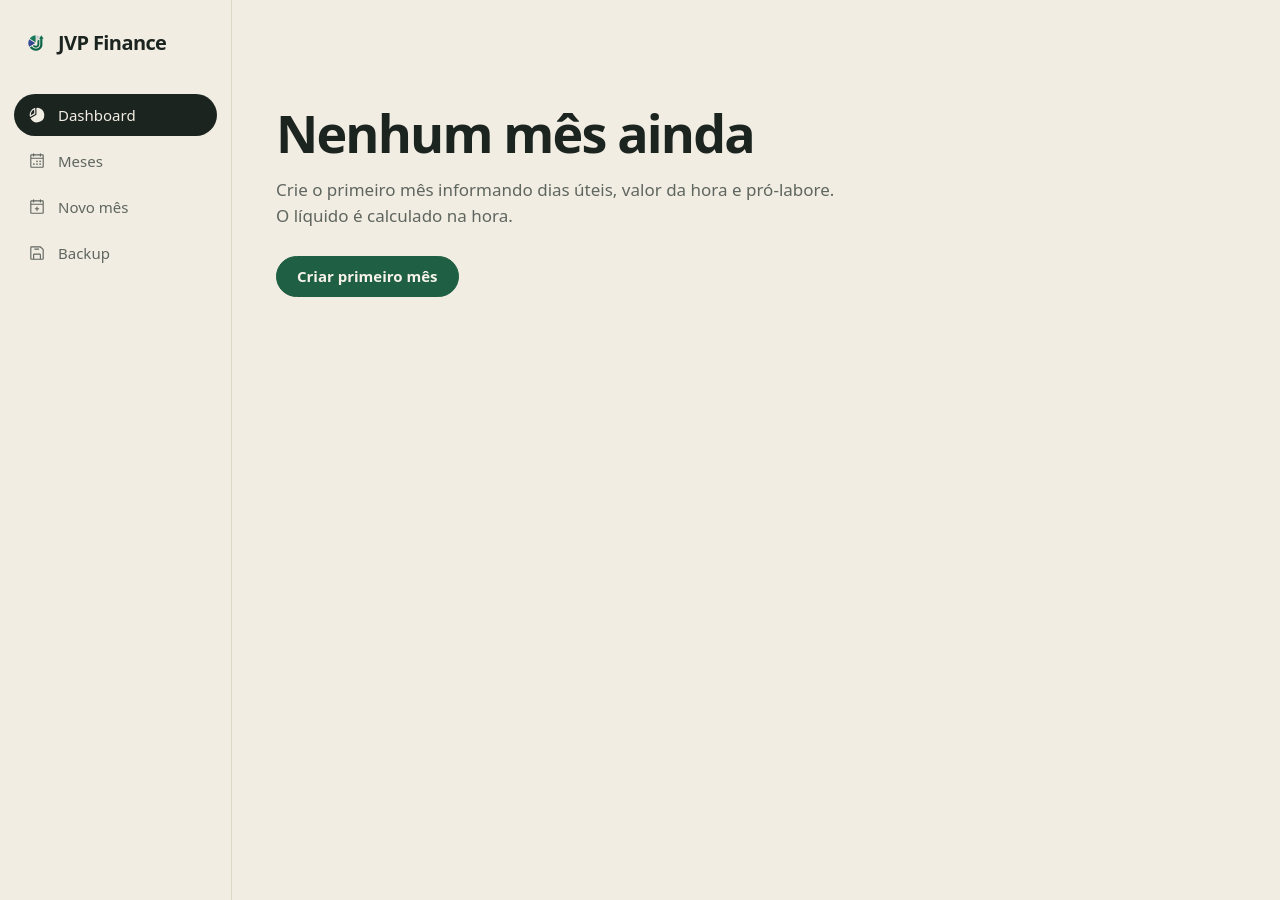
Test case: criar o primeiro mês mostra o líquido no dashboard e persiste
The width and height of the screenshot is (1280, 900).
Later steps or results of the test are not shown.
Click the button "Criar primeiro mês". click: click(367, 276)
box: [276, 256, 458, 297]
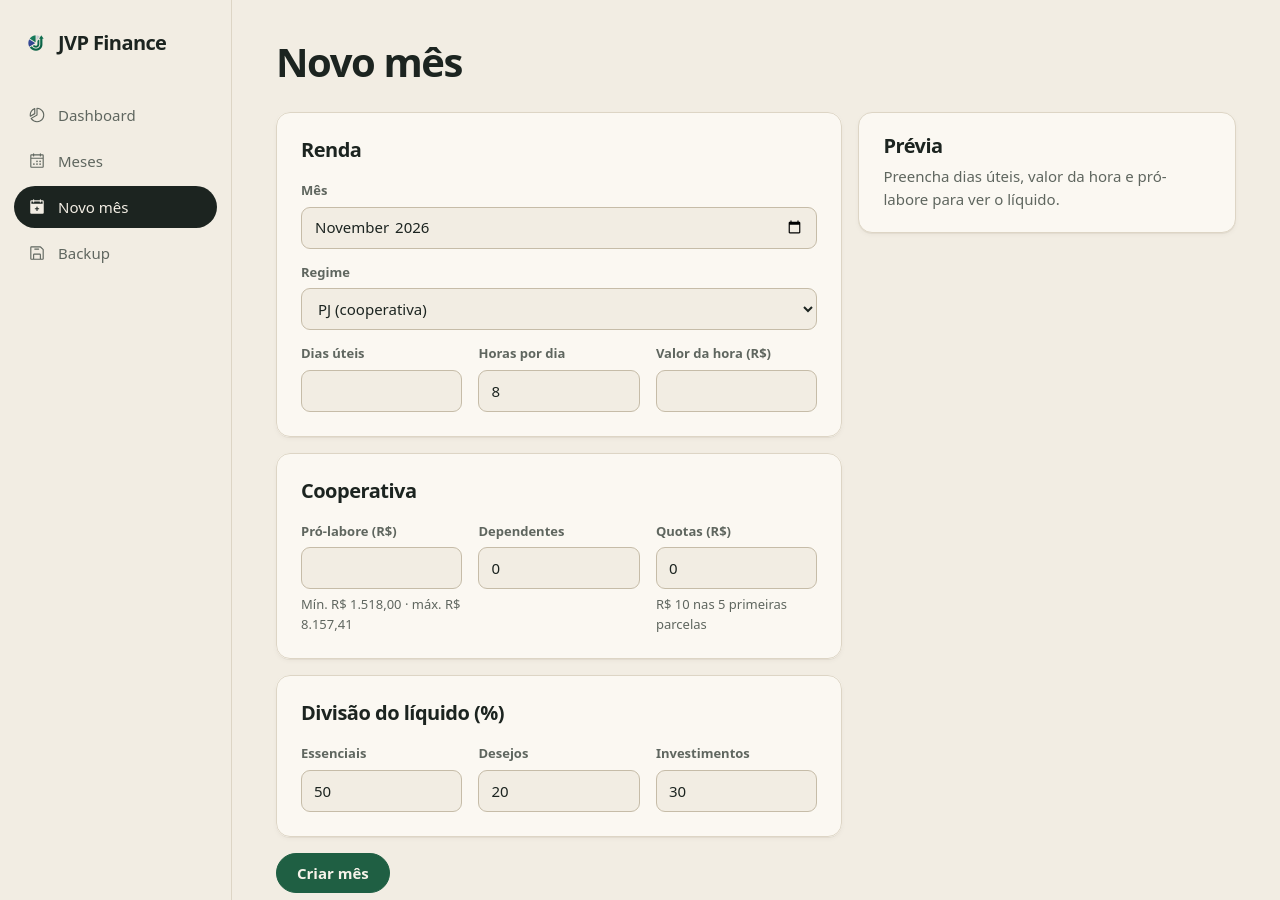
Replace the text in the field labelled "Mês" with "2026-12". click: (559, 228)
box: [301, 206, 817, 248]
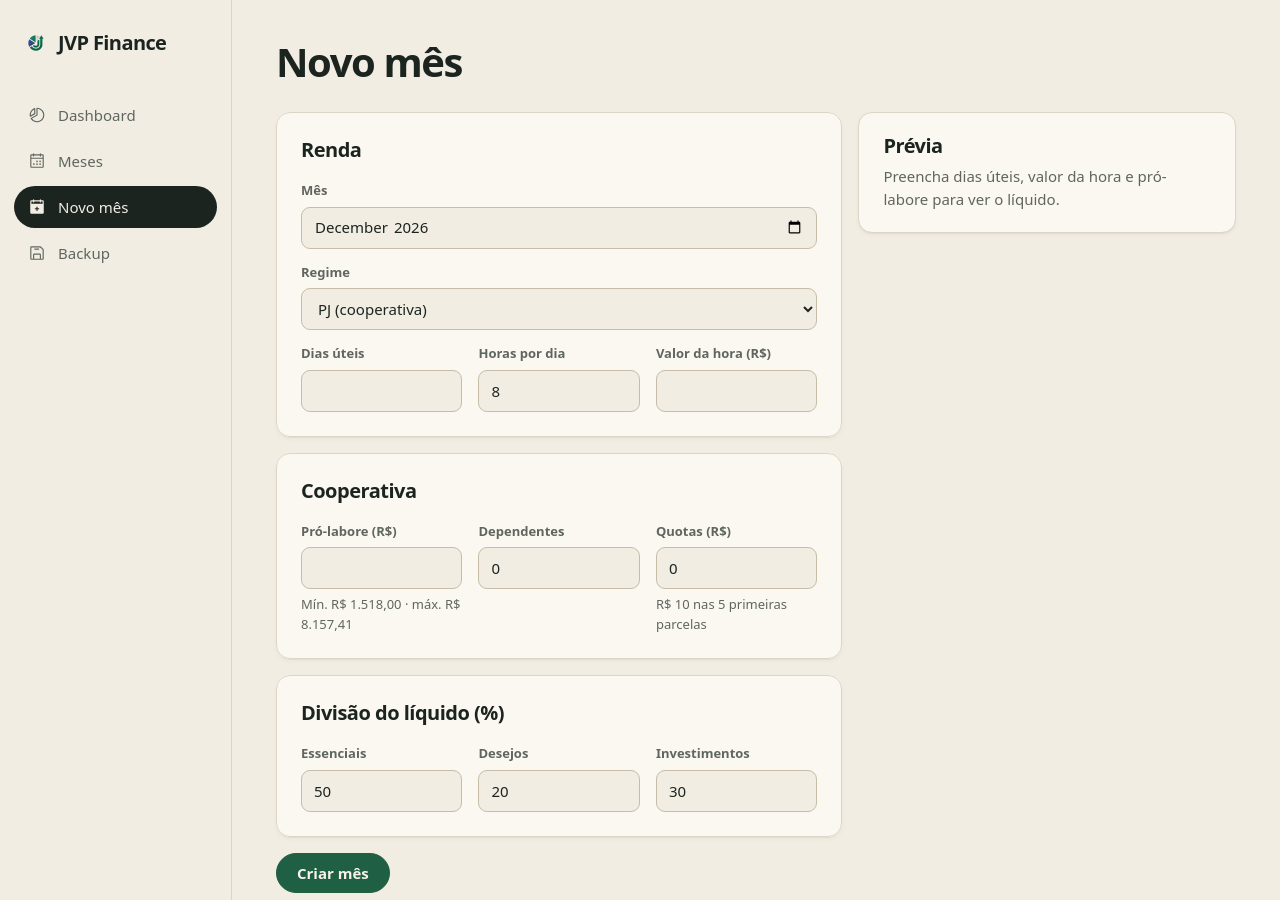
Type "20" into the number field labelled "Dias úteis". click: (382, 390)
box: [301, 370, 462, 412]
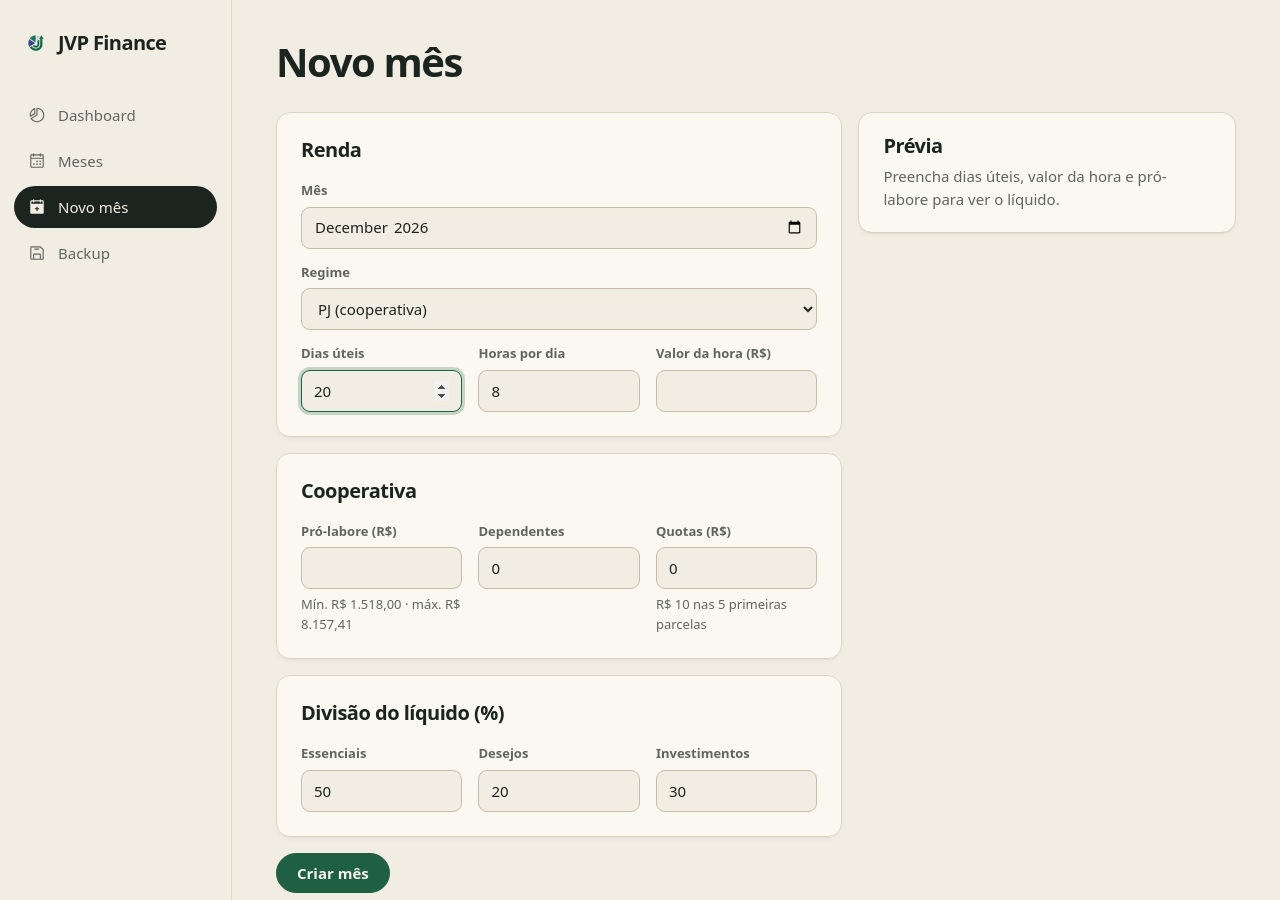
Type "40" into the number field labelled "Valor da hora (R$)". click: (737, 390)
box: [656, 370, 817, 412]
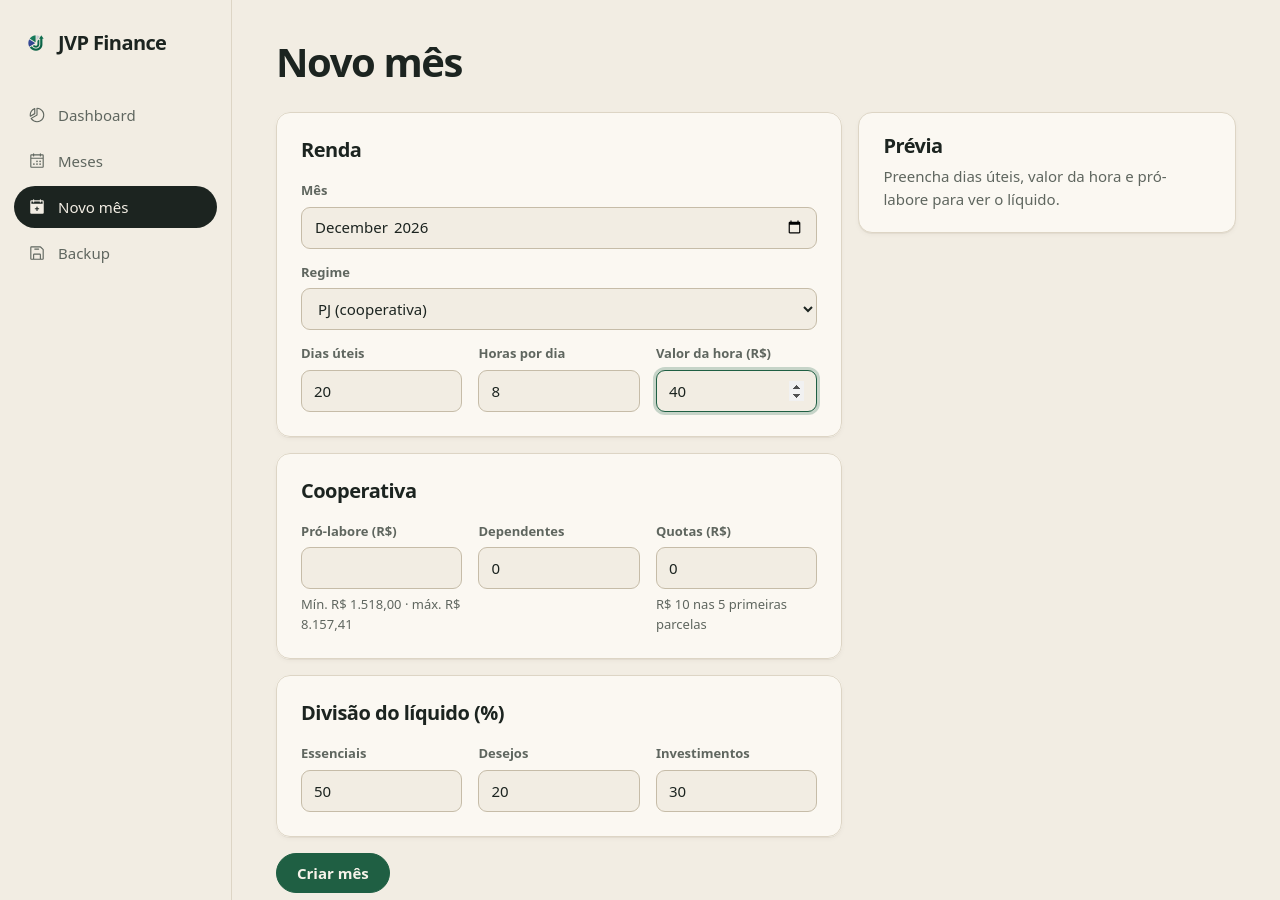
Type "1621" into the number field labelled "Pró-labore (R$)". click: (382, 568)
box: [301, 547, 462, 589]
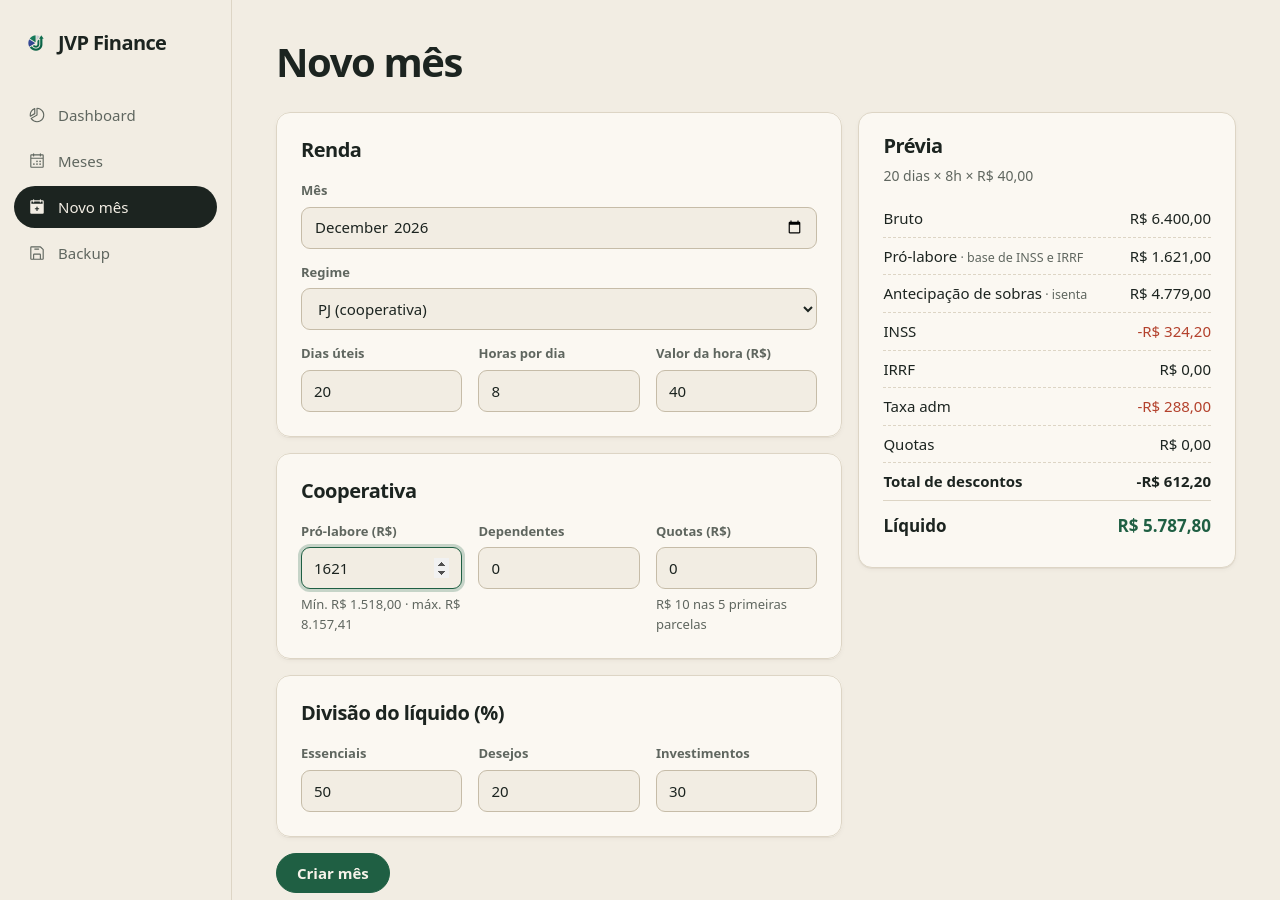
Click the button "Criar mês". click: click(333, 873)
box: [276, 852, 390, 893]
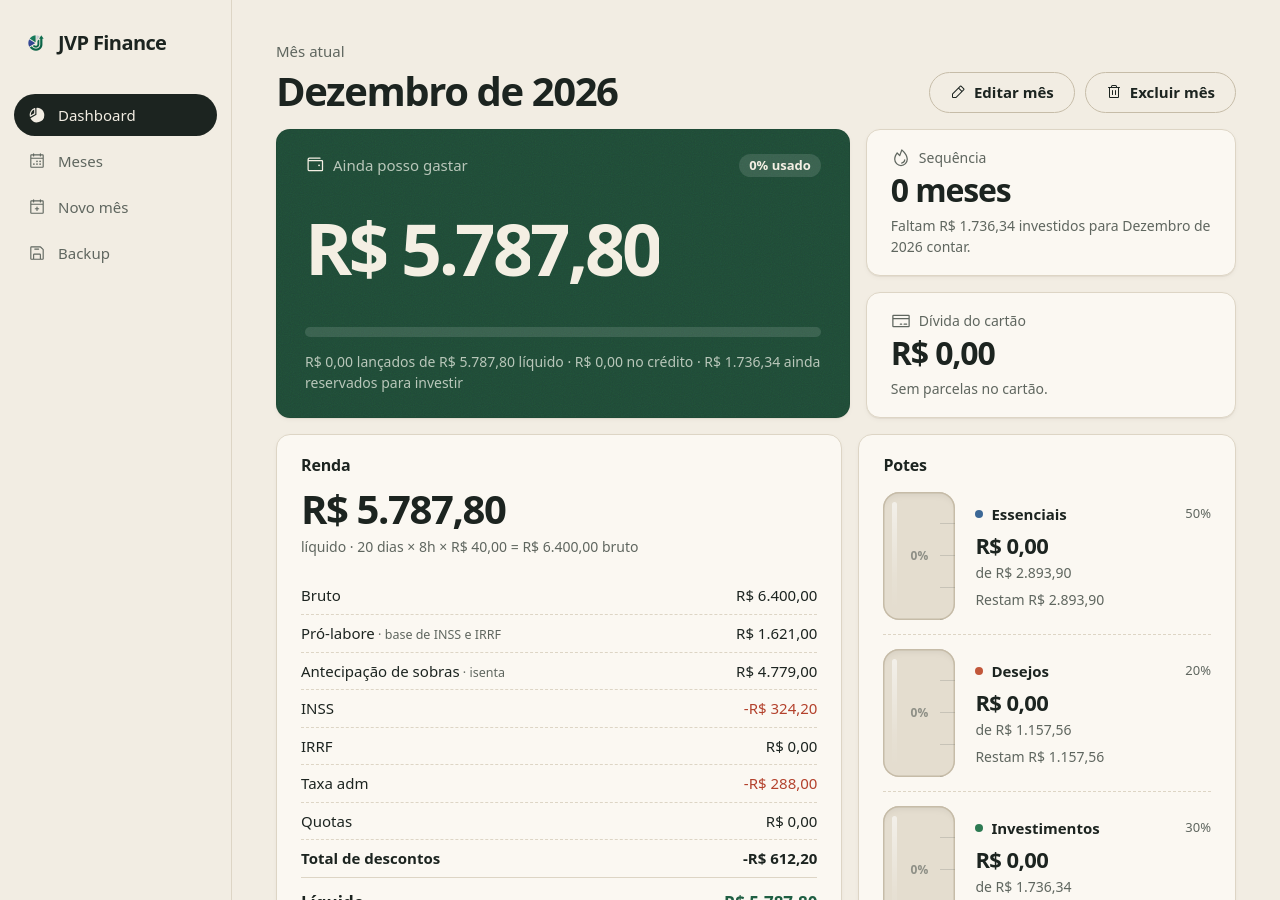
Expected: the heading "Dezembro de 2026" is shown, [276, 68, 618, 112]
